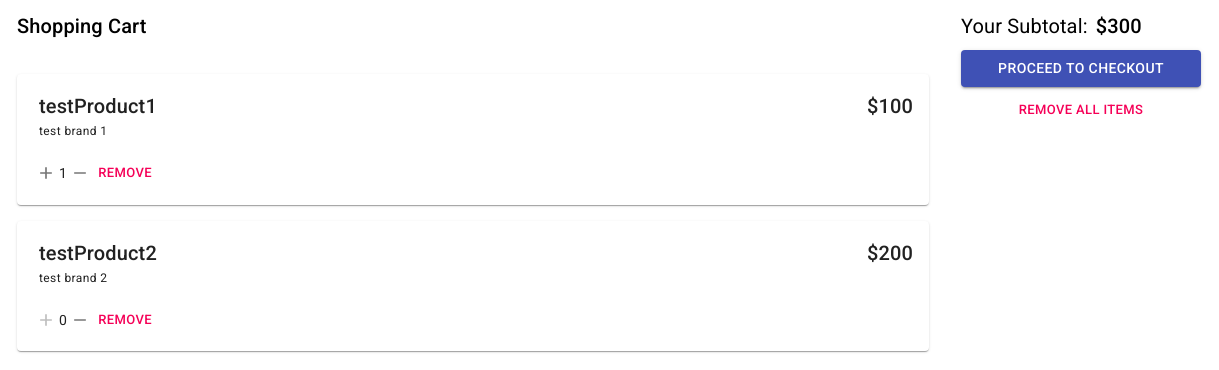
Scenario: CartDetail tests › Cart is not empty › Clicking on the add symbol increases the quantity by 1
Click the button named "increase" below "test brand 1" at (46, 173), box [33,160,59,186]
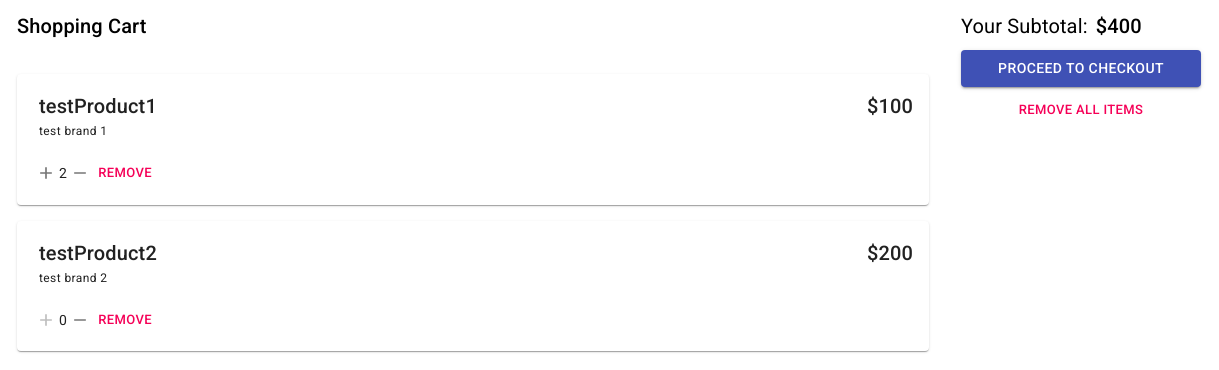
Expected: the text named "items-in-cart" reads "2", [59,163,67,183]
